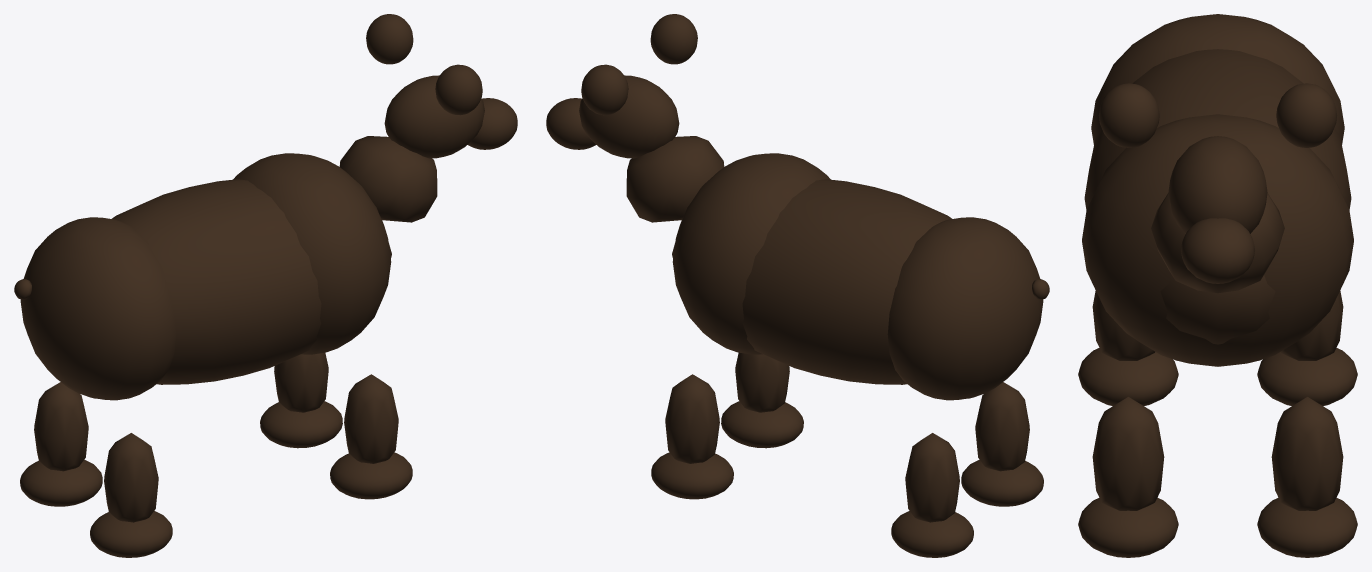
File: bear.glb
The picture shows the model from 3 angles, left to right: view 1: azimuth 30°, elevation 25°; view 2: azimuth 150°, elevation 25°; view 3: azimuth 270°, elevation 25°; orthographic projection. The views are drawn at different scales.
Parts seen in each view (by area): view 1: bear; view 2: bear; view 3: bear.
Part boxes in pixels (x1,y1,x2,y2): bear: [14, 14, 517, 557]; bear: [546, 14, 1049, 557]; bear: [1078, 14, 1357, 557].
Bounding box in the file's own units: 1.86 × 1.44 × 0.7047.
1 material, 1 textured.
